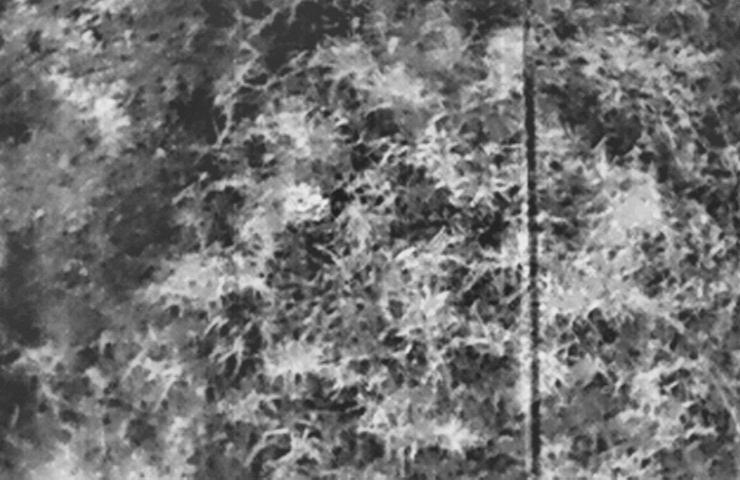landmines: (278, 179, 332, 223)
